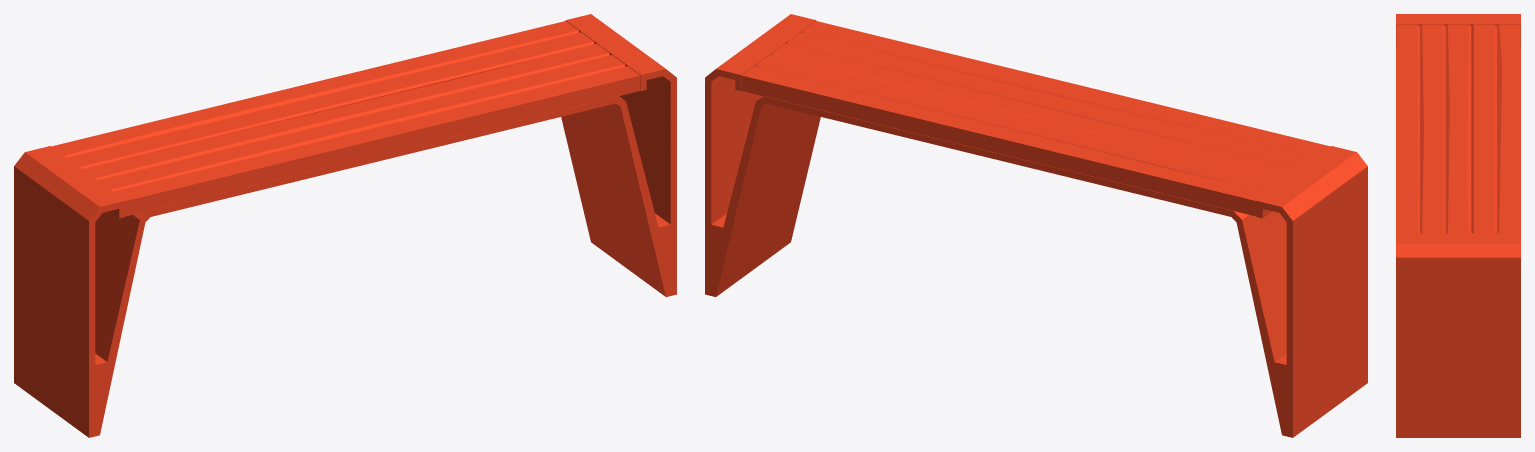
Rendered from SM_Bench_B_City.fbx.
3 renders of one model, left to right at view 1: azimuth 30°, elevation 25°; view 2: azimuth 150°, elevation 25°; view 3: azimuth 270°, elevation 25°, orthographic. The views are drawn at different scales.
Parts seen in each view (by area): view 1: SM_Bench_B_City; view 2: SM_Bench_B_City; view 3: SM_Bench_B_City.
Boxes of the visible parts, box(x1,y1,x2,y2) form: SM_Bench_B_City: box(14, 14, 676, 437); SM_Bench_B_City: box(705, 14, 1367, 437); SM_Bench_B_City: box(1396, 14, 1520, 437).
Size of the model in its own units: 1.9 by 0.7037 by 0.4192.
